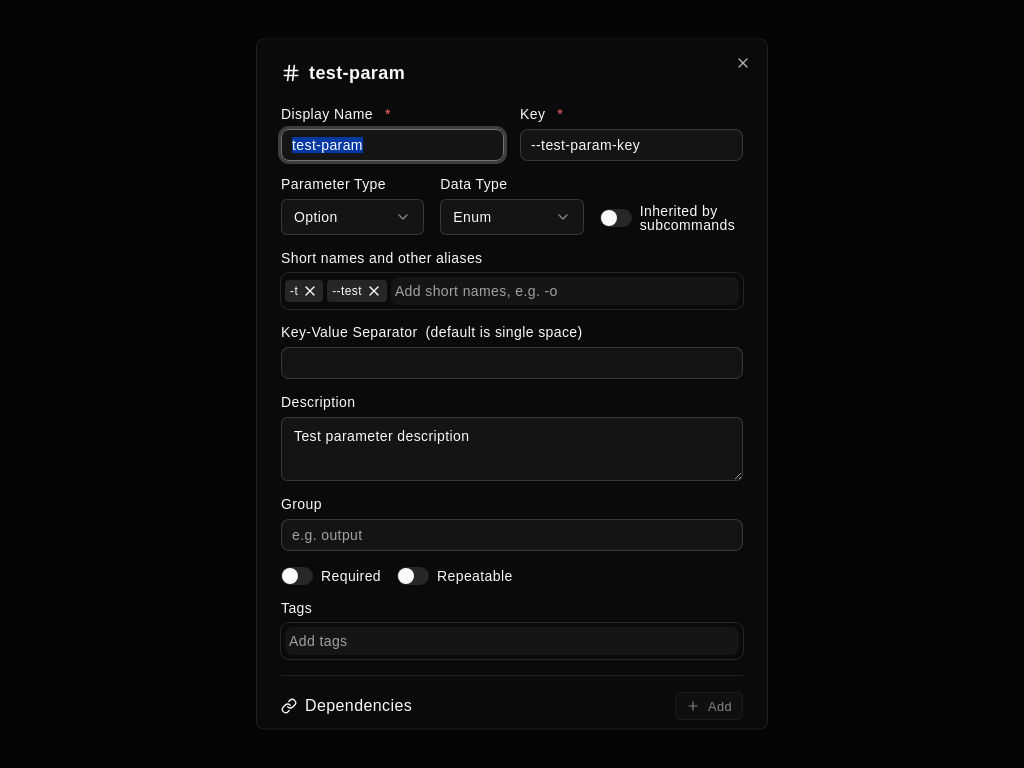
Test case: ParameterDetailsDialog - Enum Section › blocks save when enum values list is empty
The width and height of the screenshot is (1024, 768).
Replace the text in the text box showing "Test parameter description" with "Updated" at (512, 449), box 281,417 -> 743,481
(page scrolled)
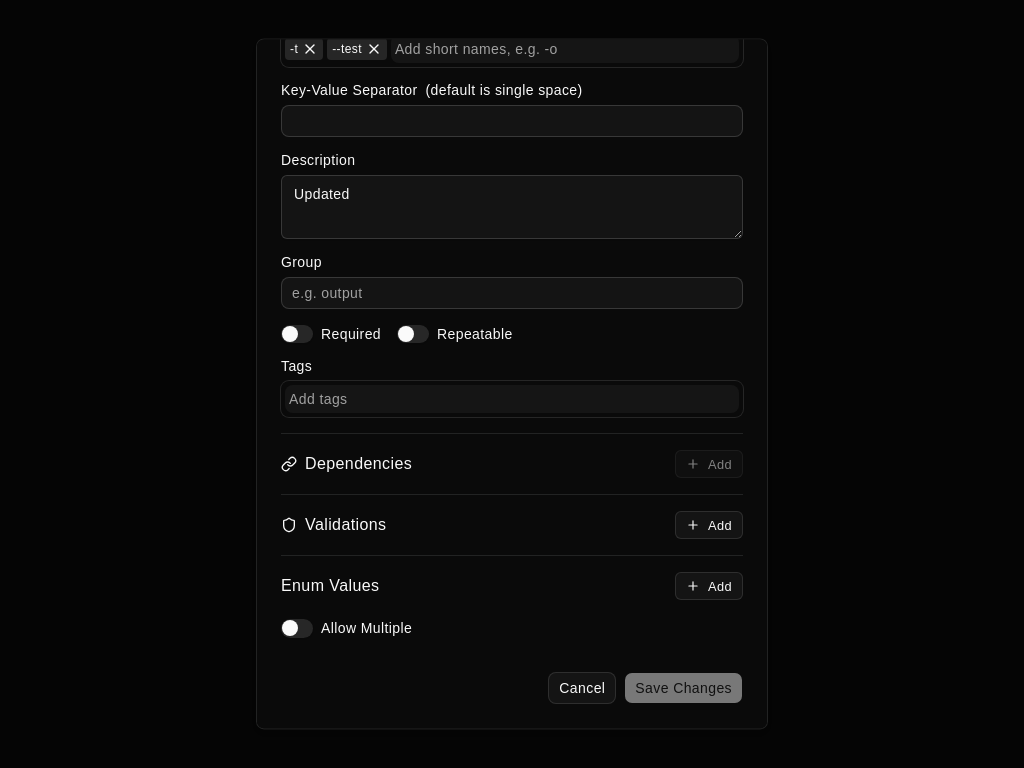
Now the button "Save Changes" is disabled, box 624,673 -> 743,705
